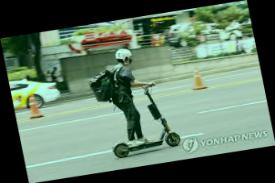helmet: (82, 42, 183, 161)
